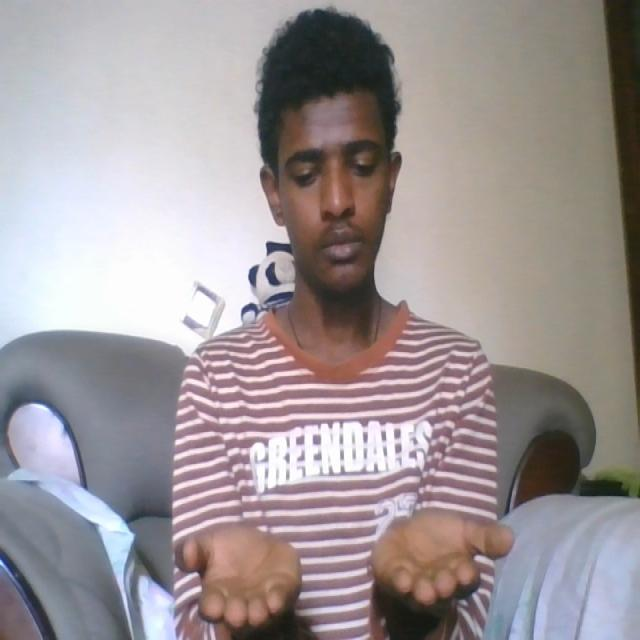mestet: (177, 530, 516, 626)
